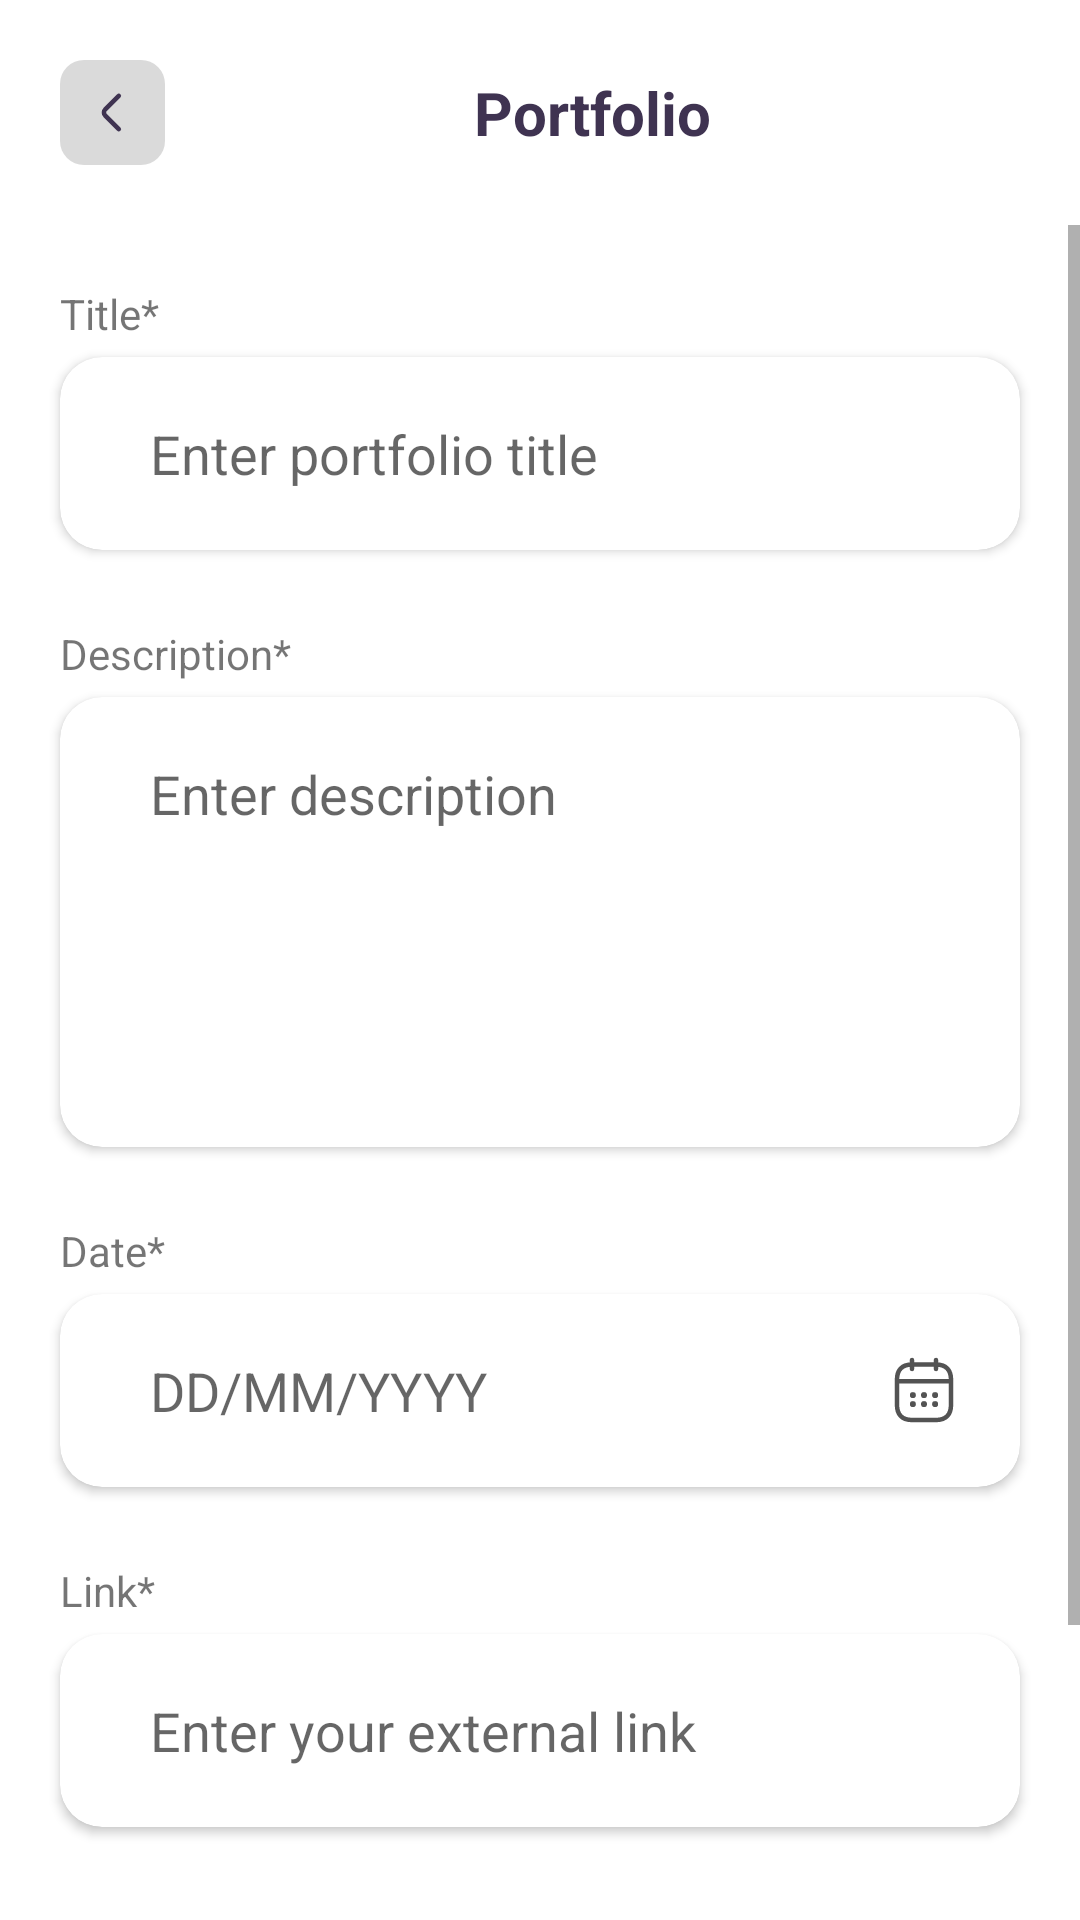

Point at icon controls on the screen. Image size 1080px x 1920px, points as point (x, y).
back: point (112, 112)
calendar: point (924, 1390)
